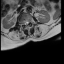CCS_stenosis: (25, 19, 27, 27)
LFS_stenosis: (28, 18, 30, 25)
LLS_normal: (27, 19, 29, 25)
RFS_stenosis: (21, 21, 23, 26)
RLS_normal: (23, 20, 25, 26)
